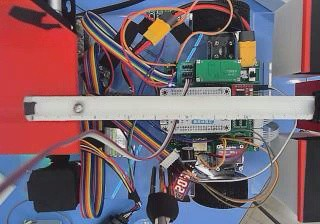ironball: (71, 102, 84, 112)
